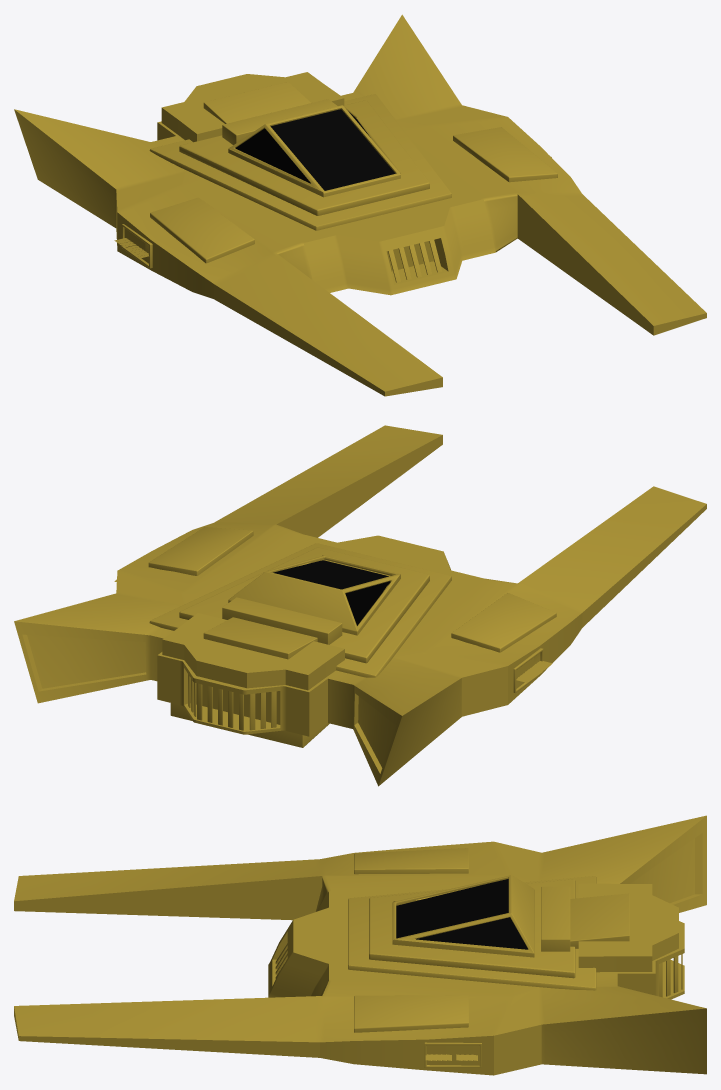
Rendered from spacecraftYellow.fbx.
The picture shows the model from 3 angles, top to bottom: view 1: azimuth 30°, elevation 25°; view 2: azimuth 150°, elevation 25°; view 3: azimuth 270°, elevation 25°; orthographic projection.
Visible parts, largest first — view 1: pasted__pCube1, pasted__pasted__pCube2, pasted__pCube2, Plane, pasted__pCube7, pCube7, pCube2, pasted__pCube6, pCube3, Plane_2; view 2: pasted__pCube1, pasted__pasted__pCube2, pCube2, pasted__pCube2, pasted__pCube7, pCube7, pasted__pCube6, pCube3, Plane, pCube6, Plane_2; view 3: pasted__pCube1, pasted__pasted__pCube2, pasted__pCube2, pCube7, Plane, pCube2, pasted__pCube6, pasted__pCube7, pCube3, Plane_1, pCube4.
Boxes of the visible parts, x1,y1,x2,y2 form: pasted__pCube1: (14,14,706,396); pasted__pasted__pCube2: (179,100,429,215); pasted__pCube2: (149,94,451,230); Plane: (270,109,395,190); pasted__pCube7: (150,197,254,263); pCube7: (453,127,557,182); pCube2: (228,105,400,197); pasted__pCube6: (203,82,310,123); pCube3: (222,99,337,144); Plane_2: (235,128,310,183); pasted__pCube1: (14,425,706,786); pasted__pasted__pCube2: (179,547,429,663); pCube2: (228,555,400,635); pasted__pCube2: (149,543,451,677); pasted__pCube7: (451,593,556,652); pCube7: (148,527,253,575); pasted__pCube6: (203,617,317,659); pCube3: (222,597,342,644); Plane: (273,560,388,589); pCube6: (170,703,329,747); Plane_2: (345,581,390,625); pasted__pCube1: (14,815,706,1075); pasted__pasted__pCube2: (369,879,575,978); pasted__pCube2: (348,876,596,990); pCube7: (354,995,468,1032); Plane: (396,879,508,938); pCube2: (392,875,534,957); pasted__pCube6: (570,893,629,948); pasted__pCube7: (354,848,468,874); pCube3: (541,886,570,951); Plane_1: (416,917,527,949); pCube4: (424,1042,481,1067).
Size of the model in its own units: 8.28 by 1.95 by 11.82.
